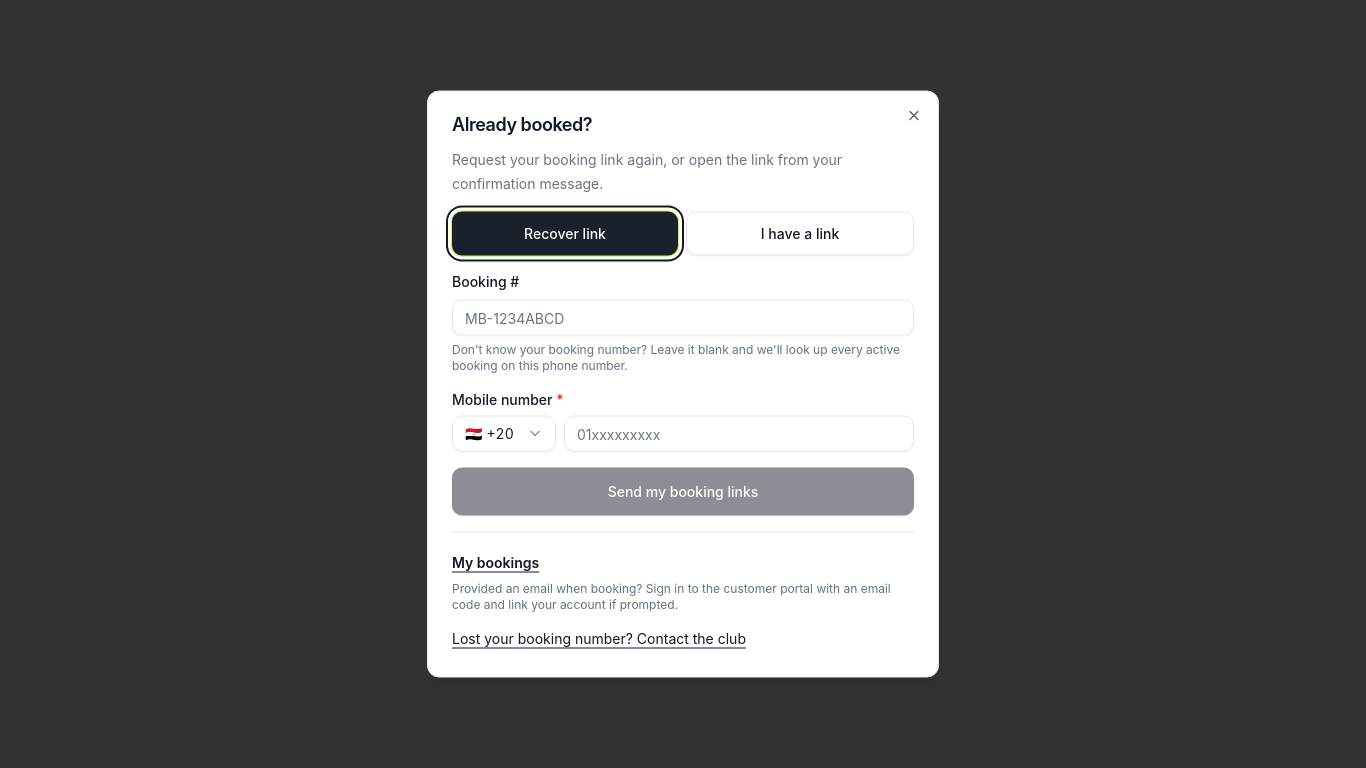
Test case: BookingRecoveryDialog — ref+phone resolves directly to the booking, like a link › shows a not-found message on a miss, without navigating or closing the dialog
This screenshot has width=1366, height=768.
Type "MB-00000000" into the field with placeholder "MB-1234ABCD" at (683, 318), box [452,300,914,336]
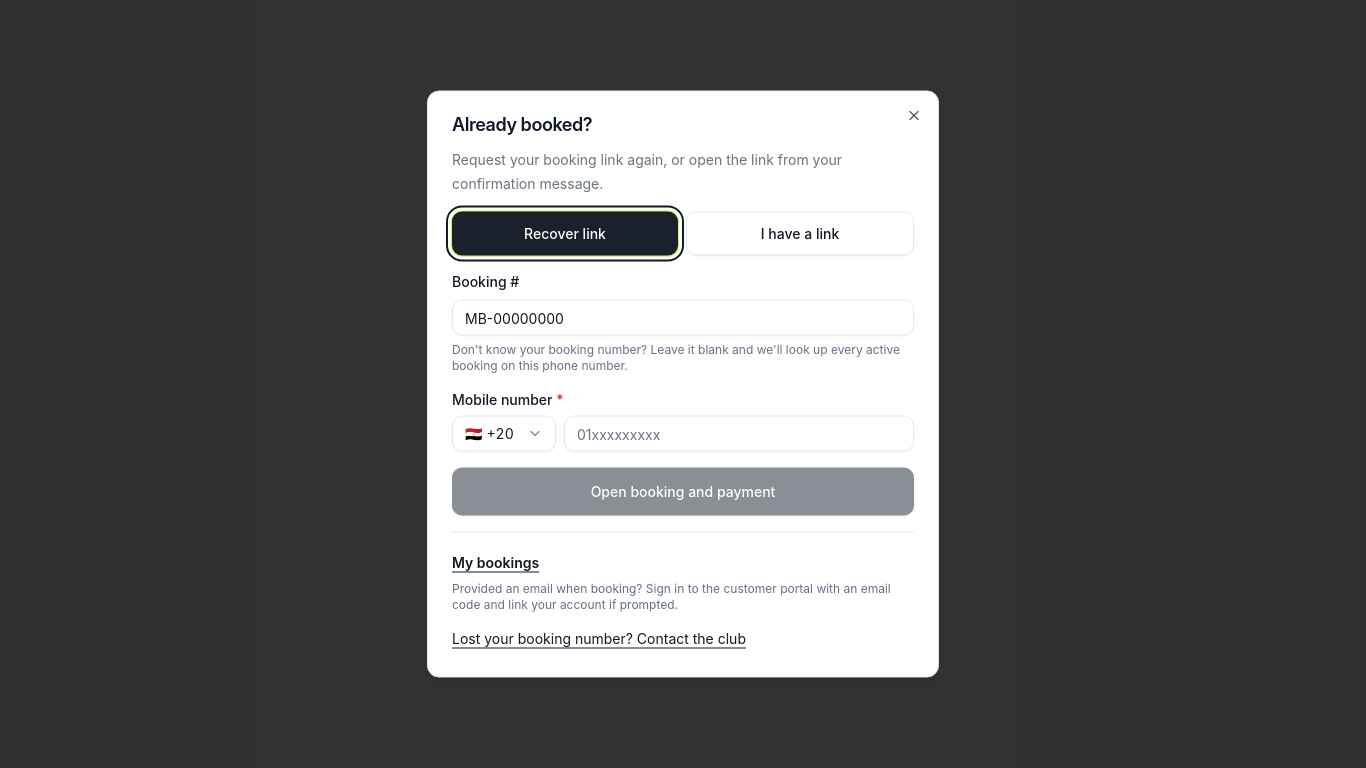
Type "01099999999" into the field with placeholder "01xxxxxxxxx" at (739, 434), box [564,416,914,452]
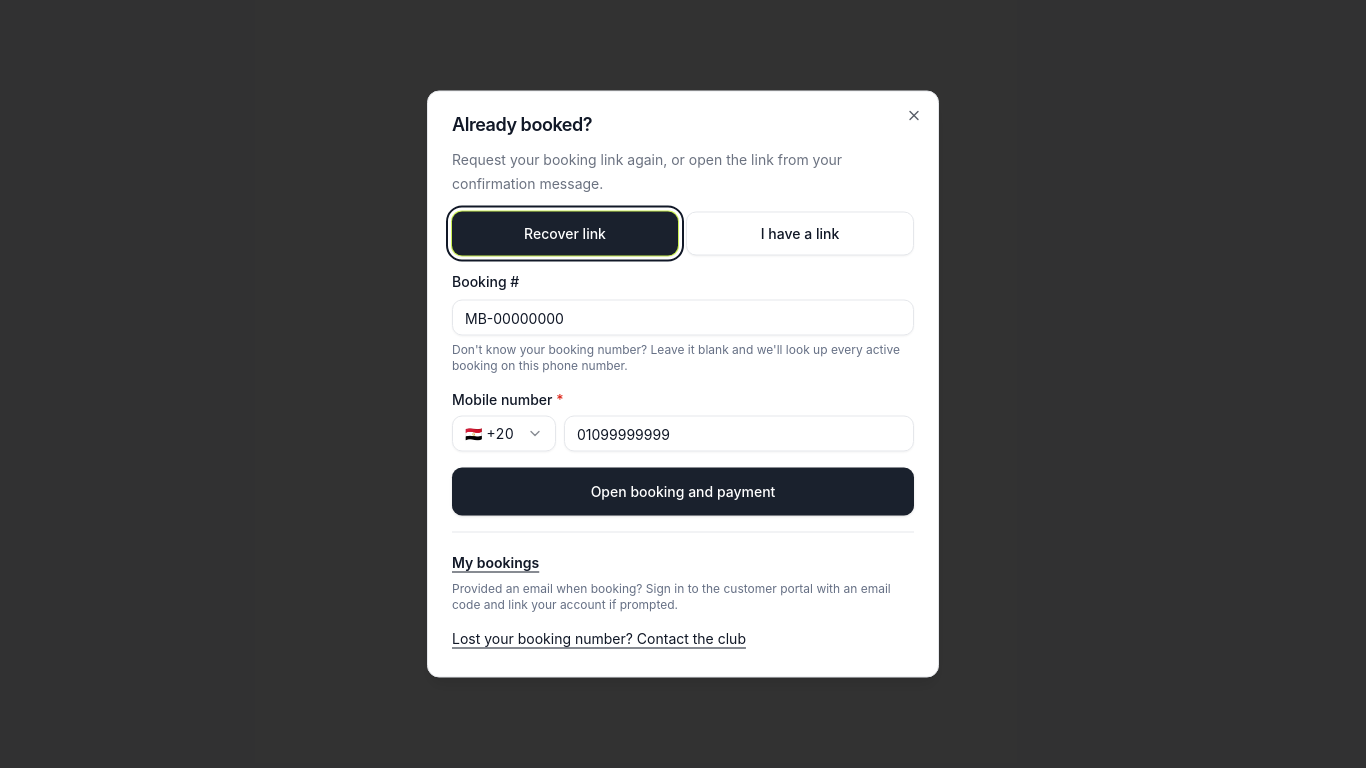
Click the button "Open booking and payment" at (683, 492), box [452,468,914,516]
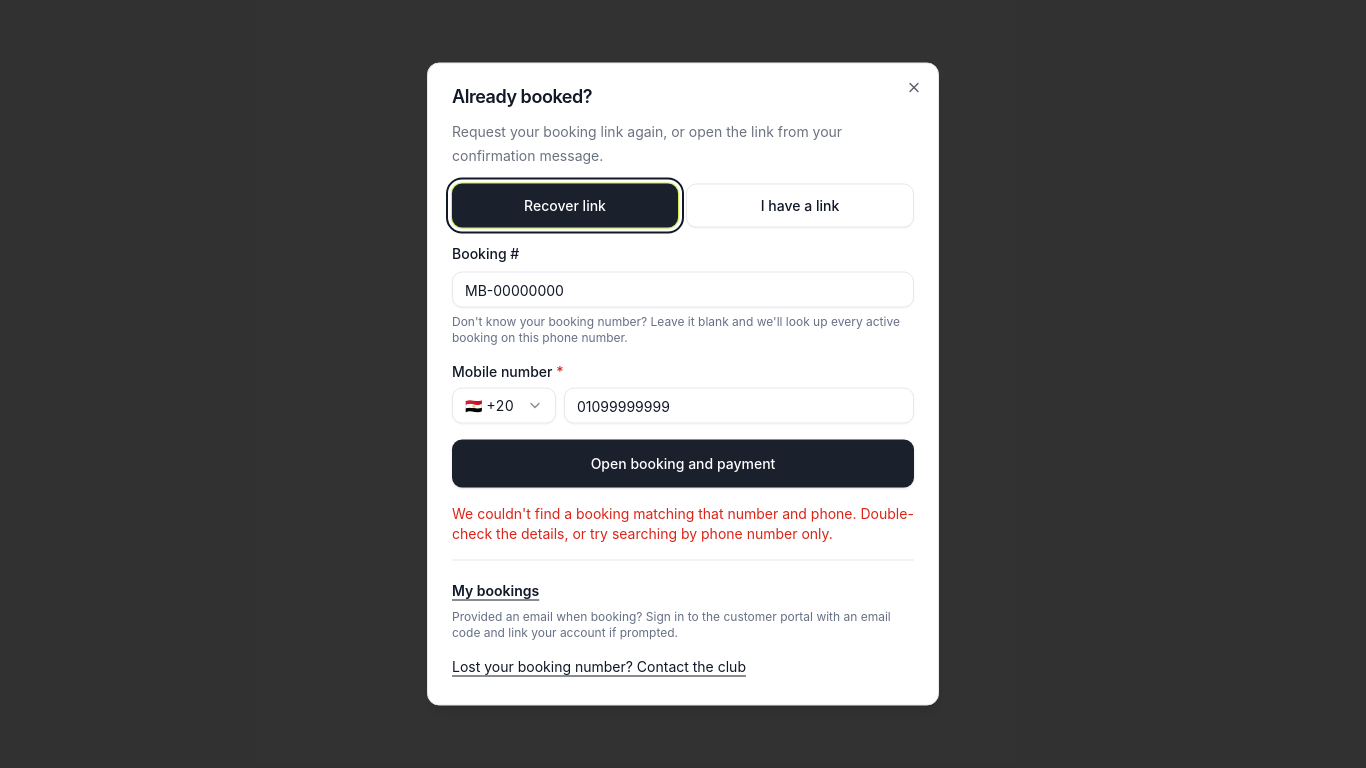
Result: the text "couldn.t find a booking" is shown at [452,504,914,542]
